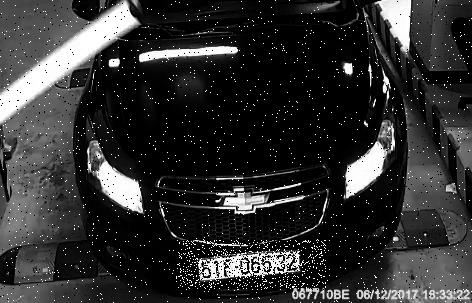License-plate: (177, 242, 327, 292)
